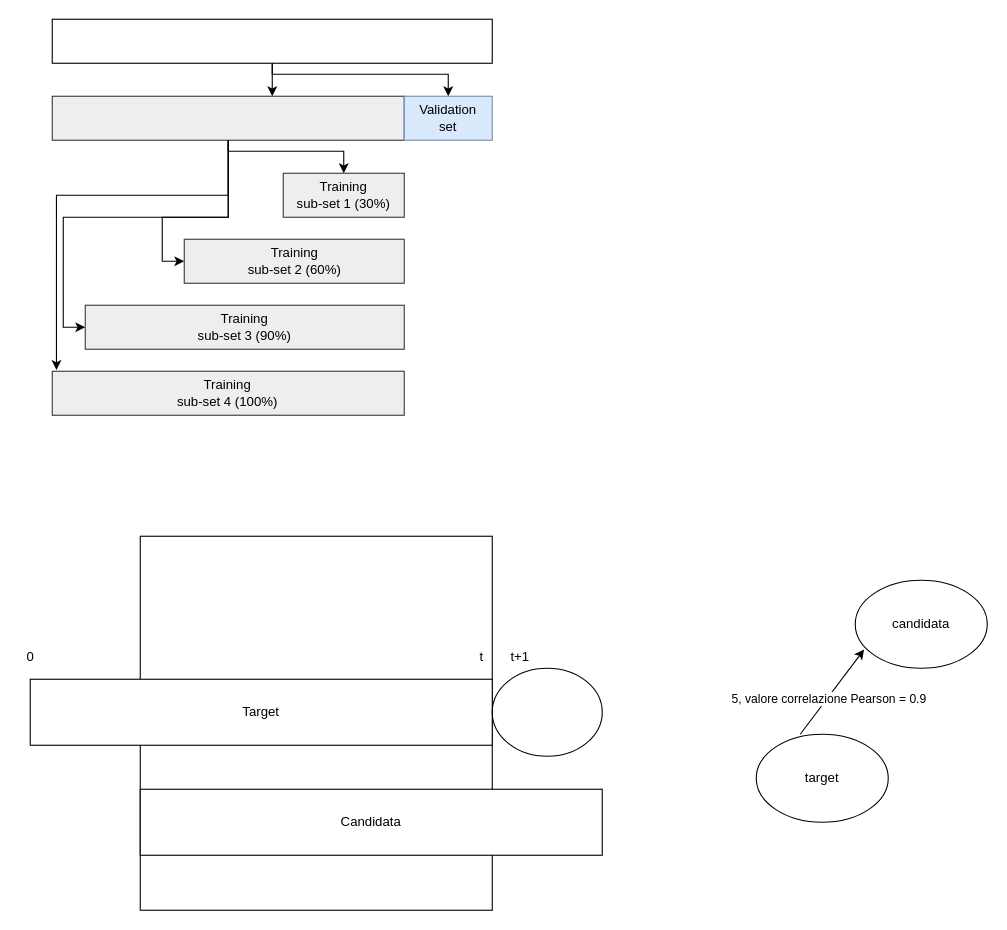
Image size: 1007x930. Some labels were removed from this diagram. Each missing label, with the centre of its shape:
"Original time-series" goes at point (271, 40).
"Training set" goes at point (227, 117).
